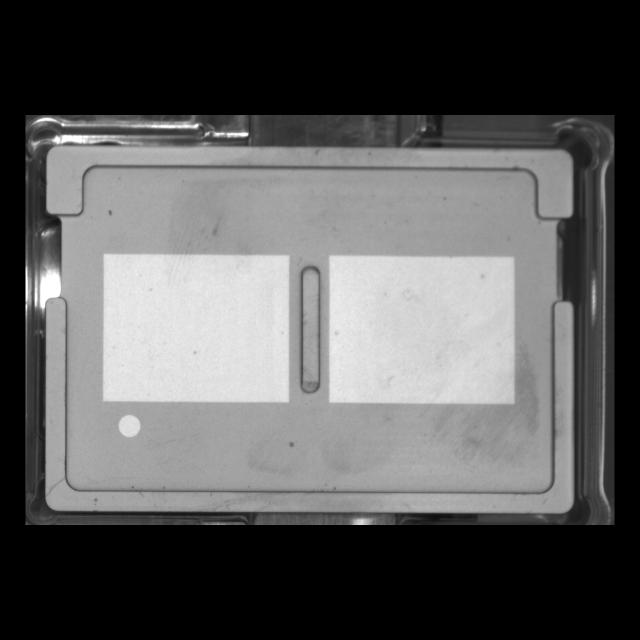door: (37, 134, 590, 234)
point: (108, 406, 151, 446)
